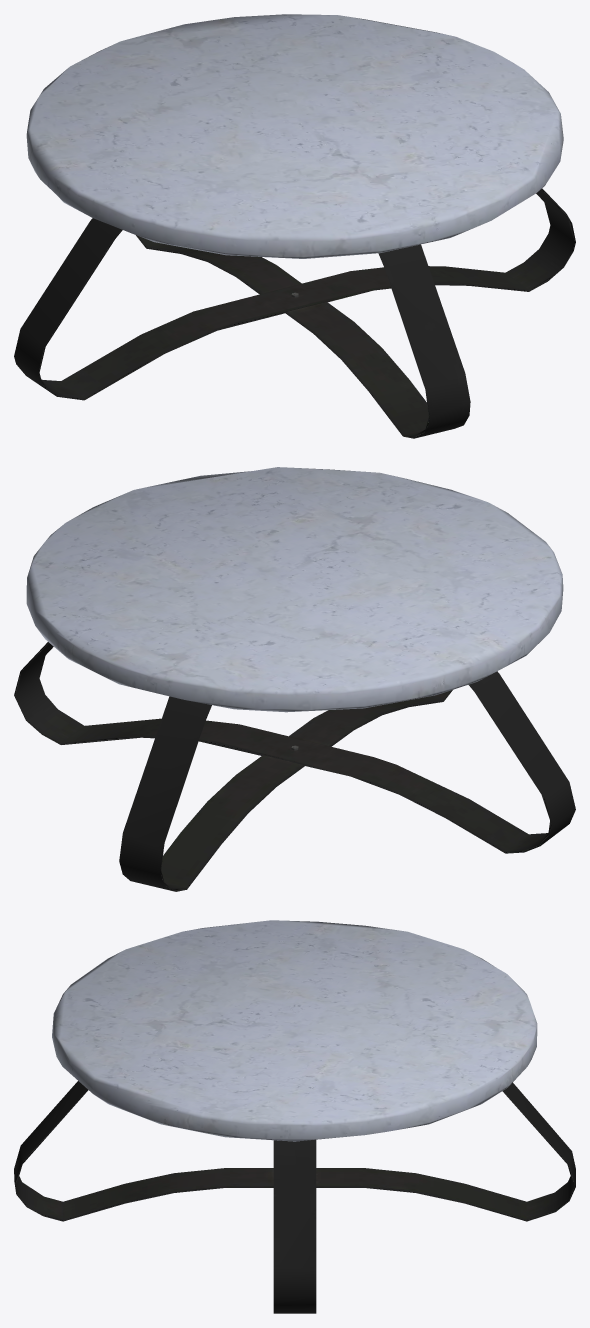
Rendered from coffee_table_round_01.glb.
3 renders of one model, top to bottom at view 1: azimuth 30°, elevation 25°; view 2: azimuth 150°, elevation 25°; view 3: azimuth 270°, elevation 25°, orthographic. The views are drawn at different scales.
Visible parts, largest first — view 1: coffee_table_round_01; view 2: coffee_table_round_01; view 3: coffee_table_round_01.
Boxes of the visible parts, bbox=[...] form: coffee_table_round_01: bbox=[14, 14, 575, 438]; coffee_table_round_01: bbox=[14, 467, 575, 891]; coffee_table_round_01: bbox=[14, 920, 575, 1313].
Size of the model in its own units: 1.3 by 0.4899 by 1.3.
Materials: 1 (1 with a texture image).
